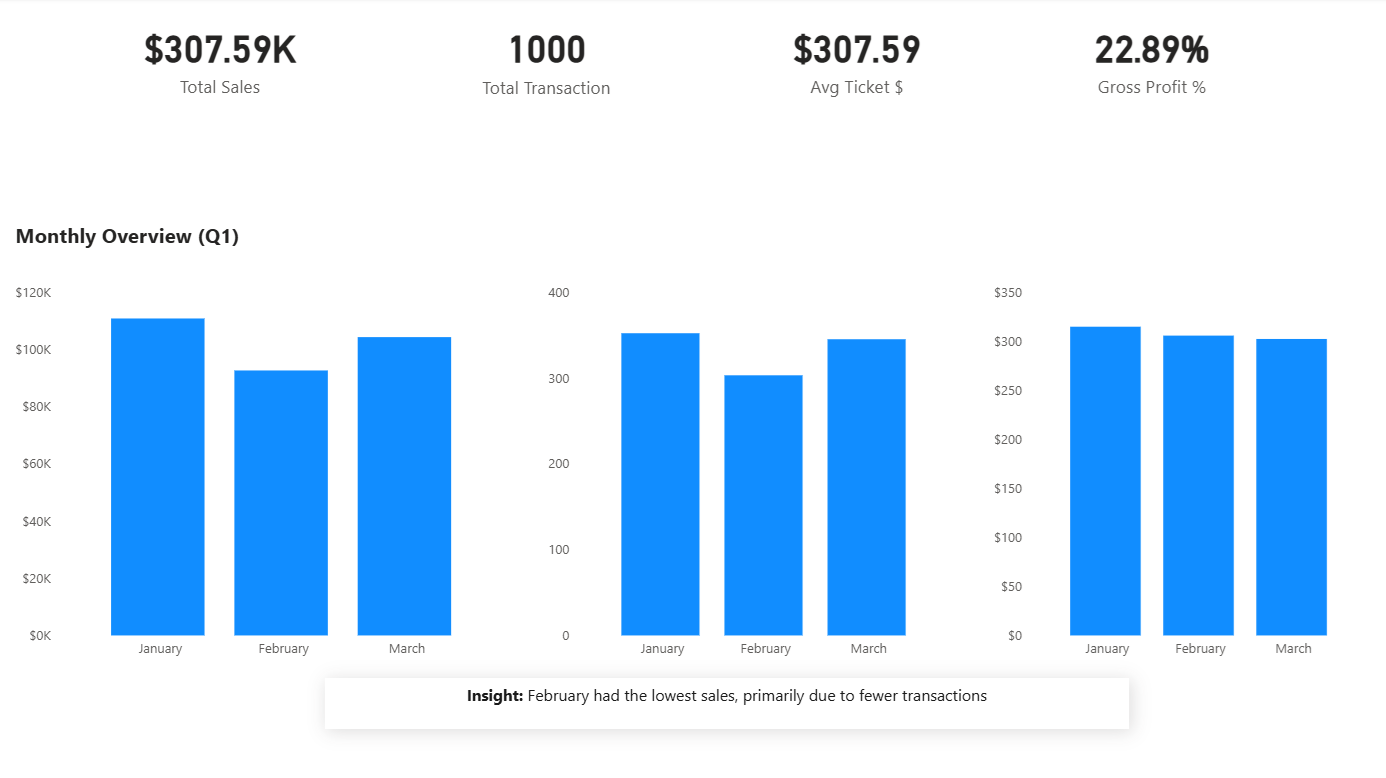

This screenshot's page, from the dashboard's own definition file:
{"tool":"powerbi","page":{"name":"Overview","canvas":[1280,720],"ordinal":0},"visuals":[{"type":"card","fields":{"Values":["_Measures (2).Total Sales"]},"box":[71.3,0,269.7,111.3],"z":0},{"type":"card","fields":{"Values":["_Measures (2).Total Transaction"]},"box":[370.9,0,270,112],"z":1000},{"type":"card","fields":{"Values":["_Measure.Average Transaction Value"]},"box":[670.8,0,241.2,111.3],"z":2000},{"type":"clusteredColumnChart","title":"Sales by Month","fields":{"Y":["_Measure.Total Sales"],"Category":["DimDate.Month Name"]},"box":[12.8,256.9,460.9,359.6],"z":3000},{"type":"clusteredColumnChart","title":"Transactions by Month","fields":{"Y":["_Measure.Total Transaction"],"Category":["DimDate.Month Name"]},"box":[502.3,256.9,381,359.6],"z":4000},{"type":"clusteredColumnChart","title":"Avg Value by Month","fields":{"Y":["_Measure.Average Transaction Value"],"Category":["DimDate.Month Name"]},"box":[911.8,256.9,353.9,359.6],"z":5000},{"type":"card","fields":{"Values":["_Measure.Gross Profit %"]},"box":[941.8,0,241.2,111.3],"z":6000},{"type":"textbox","box":[12.8,201.2,386.7,45.7],"z":7000},{"type":"textbox","box":[301.6,626.3,739,46.2],"z":8000}]}

Visuals, with their boxes in screenshot pixels (x1, y1, x2, y2), scaled from the page's 1280x720 canvas onto the 1386x778 screenshot:
card - _Measures (2).Total Sales: (x1=77, y1=0, x2=369, y2=120)
card - _Measures (2).Total Transaction: (x1=402, y1=0, x2=694, y2=121)
card - _Measure.Average Transaction Value: (x1=726, y1=0, x2=988, y2=120)
"Sales by Month" clusteredColumnChart: (x1=14, y1=278, x2=513, y2=666)
"Transactions by Month" clusteredColumnChart: (x1=544, y1=278, x2=956, y2=666)
"Avg Value by Month" clusteredColumnChart: (x1=987, y1=278, x2=1371, y2=666)
card - _Measure.Gross Profit %: (x1=1020, y1=0, x2=1281, y2=120)
textbox: (x1=14, y1=217, x2=433, y2=267)
textbox: (x1=327, y1=677, x2=1127, y2=727)
